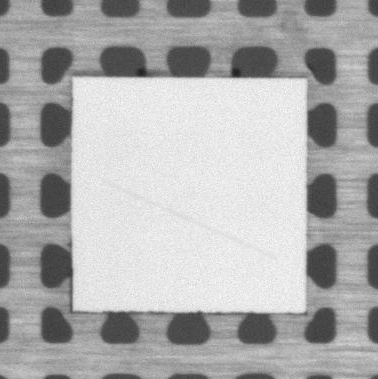DIE_CRACK: (103, 181, 275, 259)
